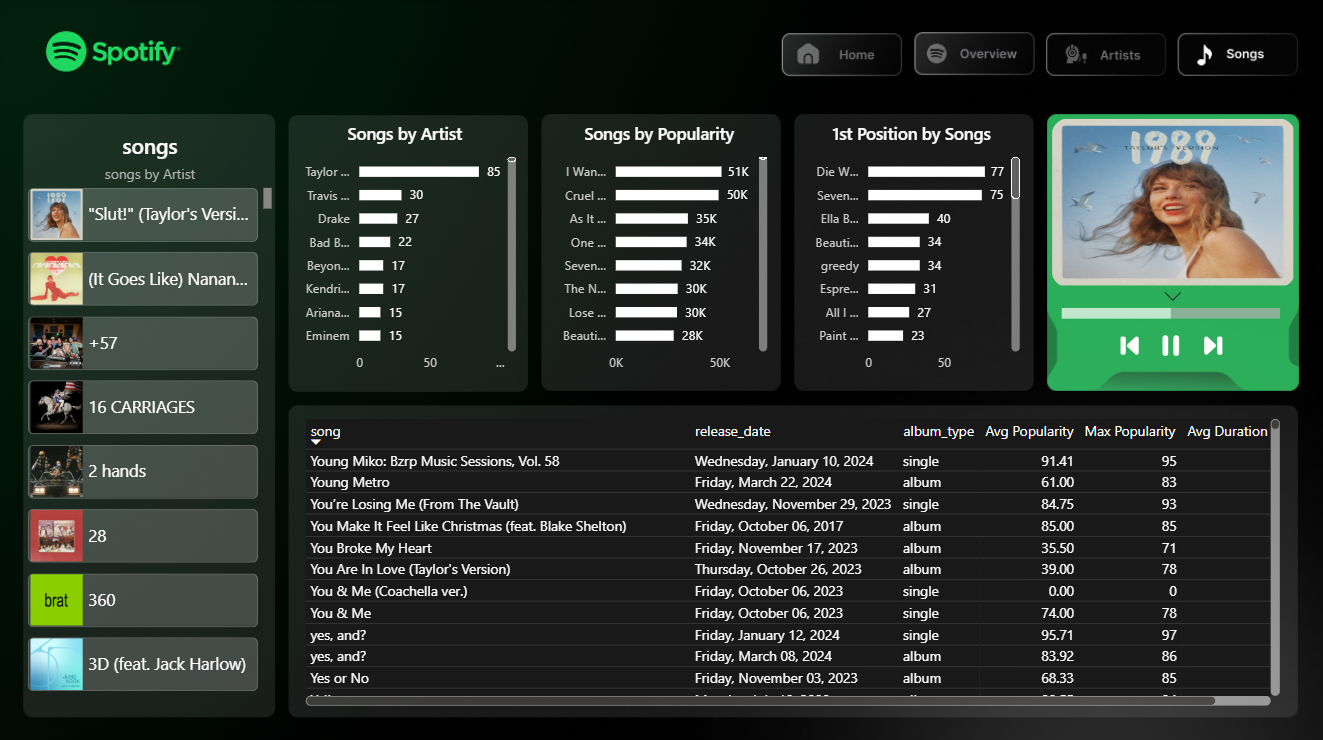

What the dashboard file says about the page in this screenshot:
{"tool":"powerbi","page":{"name":"Songs","canvas":[1280,720],"ordinal":3},"visuals":[{"type":"actionButton","box":[762.7,32,100.5,39.6],"z":0},{"type":"actionButton","box":[890.6,32,100.5,39.6],"z":1000},{"type":"actionButton","box":[1015.4,32,100.5,39.6],"z":2000},{"type":"listSlicer","title":"songs","fields":{"Values":["Top-50-World.song"]},"box":[24.4,127.9,245.1,545],"z":3000},{"type":"listSlicer","title":"songs","fields":{"Values":["Top-50-World.song"]},"box":[1010.9,89.8,245.1,213.1],"z":4000},{"type":"hundredPercentStackedBarChart","fields":{"Y":["Measure's.Avg Popularity","Avg(Top-50-World.popularity)"]},"box":[1022,260,220.7,80],"z":5000},{"type":"image","box":[1160.4,325,25,20],"z":6000},{"type":"image","box":[1080,325,25,20],"z":7000},{"type":"image","box":[1120,325,25,20],"z":8000},{"type":"clusteredBarChart","title":"Songs by Artist","fields":{"Category":["Top-50-World.artist"],"Y":["Measure's.Distinct Songs"]},"box":[280.1,118.7,225.3,251.2],"z":9000},{"type":"clusteredBarChart","title":"Songs by Popularity","fields":{"Category":["Top-50-World.song"],"Y":["Sum(Top-50-World.popularity)"]},"box":[528.3,118.7,219.2,251.2],"z":10000},{"type":"tableEx","fields":{"Values":["Top-50-World.song","Top-50-World.release_date","Top-50-World.album_type","Measure's.Avg Popularity","Measure's.Max Popularity","Measure's.Avg Duration Minutes"]},"box":[290.8,400.4,951.5,286.2],"z":11000},{"type":"clusteredBarChart","title":"1st Position by Songs","fields":{"Category":["Top-50-World.song"],"Y":["Measure's.Position1 Hits per Artist"]},"box":[771.8,118.7,219.2,251.2],"z":12000}]}

Visuals, with their boxes in screenshot pixels (x1, y1, x2, y2), scaled from the page's 1280x720 canvas onto the 1323x740 screenshot:
actionButton: [left=788, top=33, right=892, bottom=74]
actionButton: [left=921, top=33, right=1024, bottom=74]
actionButton: [left=1050, top=33, right=1153, bottom=74]
"songs" listSlicer: [left=25, top=131, right=279, bottom=692]
"songs" listSlicer: [left=1045, top=92, right=1298, bottom=311]
hundredPercentStackedBarChart - Measure's.Avg Popularity x Avg(Top-50-World.popularity): [left=1056, top=267, right=1284, bottom=349]
image: [left=1199, top=334, right=1225, bottom=355]
image: [left=1116, top=334, right=1142, bottom=355]
image: [left=1158, top=334, right=1183, bottom=355]
"Songs by Artist" clusteredBarChart: [left=290, top=122, right=522, bottom=380]
"Songs by Popularity" clusteredBarChart: [left=546, top=122, right=773, bottom=380]
tableEx - Top-50-World.song x Top-50-World.release_date: [left=301, top=412, right=1284, bottom=706]
"1st Position by Songs" clusteredBarChart: [left=798, top=122, right=1024, bottom=380]
